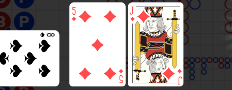5D: (70, 5, 77, 22)
JD: (129, 5, 135, 22)
